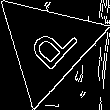P_SW: (17, 14, 78, 77)
